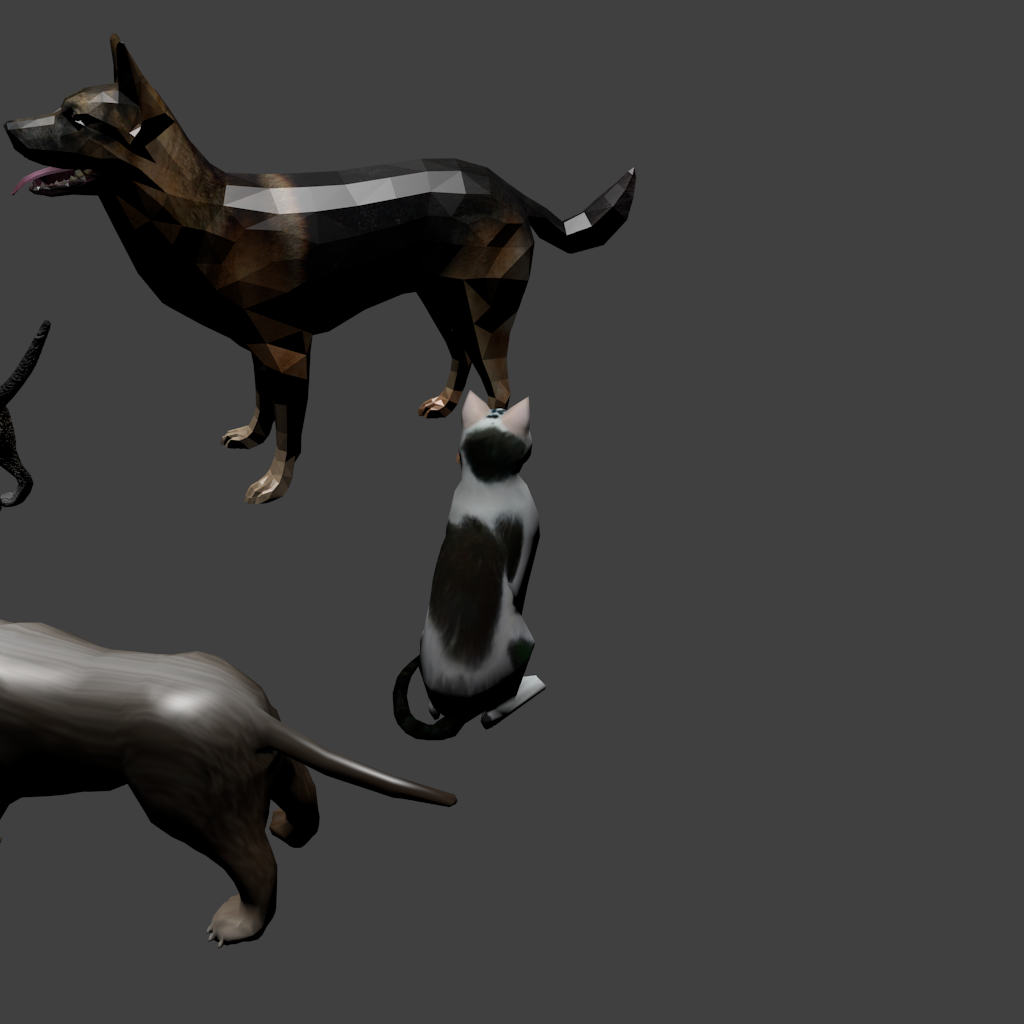Dog: (3, 33, 633, 471)
